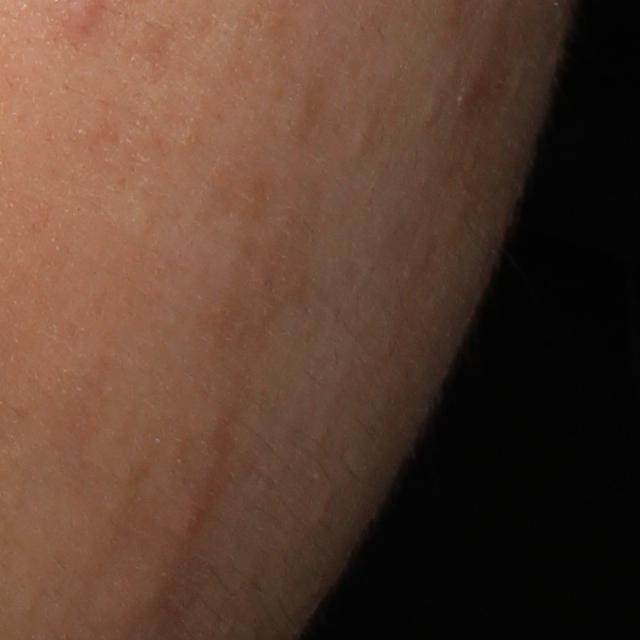comedo: (354, 124, 379, 153)
papule: (168, 495, 216, 544)
